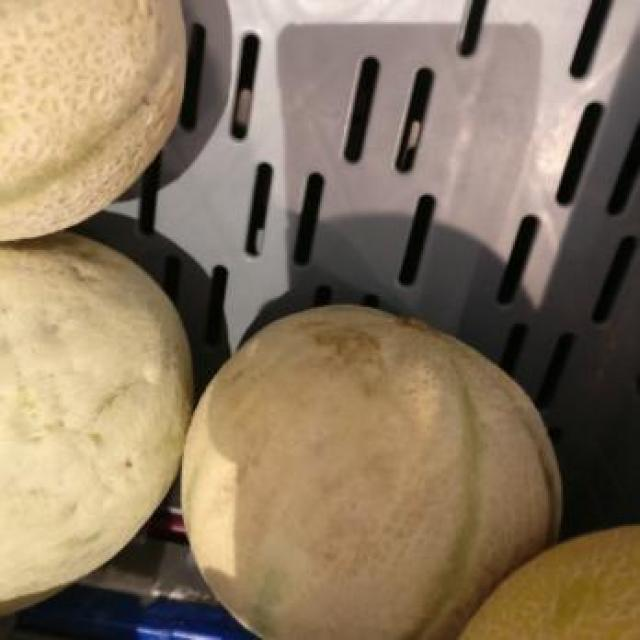Cantaloupe: (186, 304, 566, 638), (0, 237, 191, 612), (0, 0, 189, 243)
